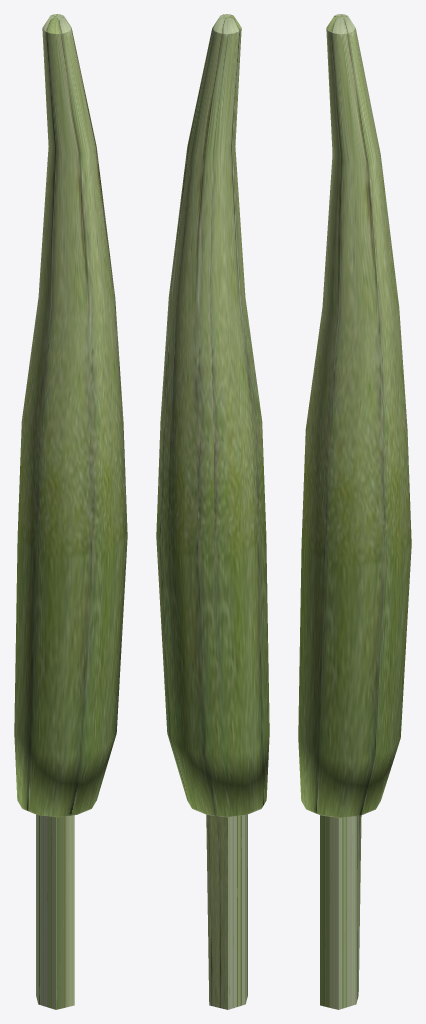
File: okra.fbx
3 renders of one model, left to right at view 1: azimuth 30°, elevation 25°; view 2: azimuth 150°, elevation 25°; view 3: azimuth 330°, elevation 25°, orthographic.
Visible parts, largest first — view 1: orka, orkastem; view 2: orka, orkastem; view 3: orka, orkastem.
Boxes of the visible parts, x1=… form: orka: x1=14, y1=14, x2=127, y2=817; orkastem: x1=36, y1=814, x2=74, y2=1009; orka: x1=156, y1=14, x2=269, y2=817; orkastem: x1=206, y1=814, x2=247, y2=1009; orka: x1=298, y1=14, x2=411, y2=817; orkastem: x1=320, y1=815, x2=361, y2=1009.
Bounding box in the file's own units: 0.1459 × 1.47 × 0.149.
